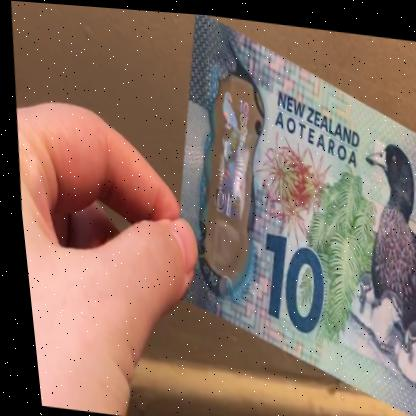10F: (195, 79, 262, 249)
